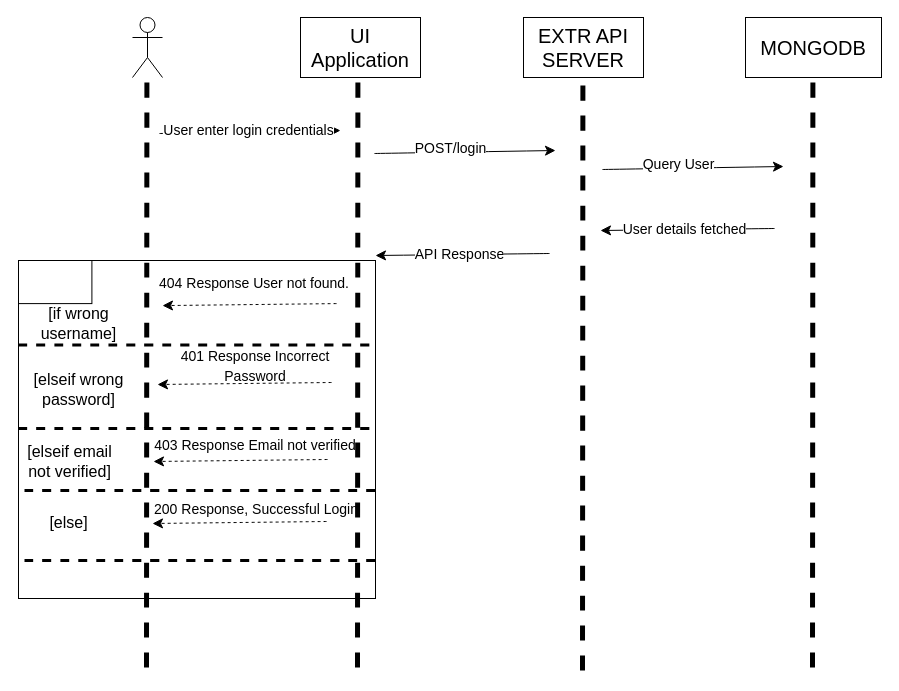
The diagram is 899 pixels wide and 691 high, and some of its shapes have lost their labels. Here are the shapes that lost their labels. From the top down, the centre of each, then its label:
At point (147, 47): "User".
At point (55, 282): "Alternative".
